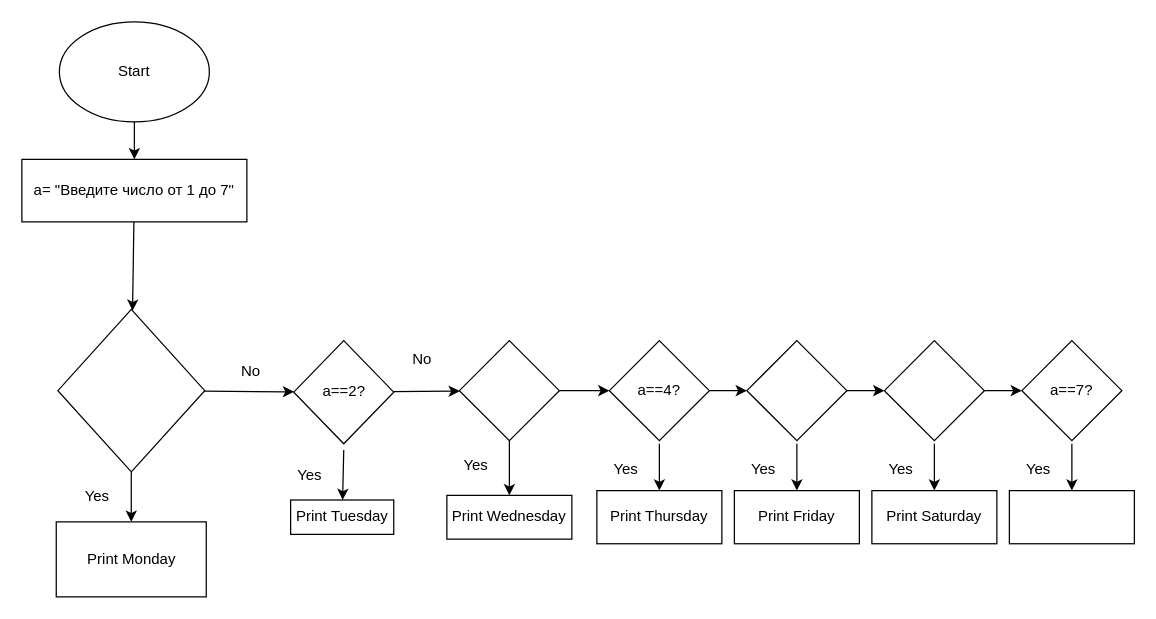
Image size: 1156x619. Some labels were removed from this diagram. The centre of each missing label's shape, as x and y in pixels:
"a==1?" belongs at [131,390].
"a==3?" belongs at [508,390].
"a==6?" belongs at [933,390].
"Print Sunday" belongs at [1071,516].
"а==5?" belongs at [796,390].
